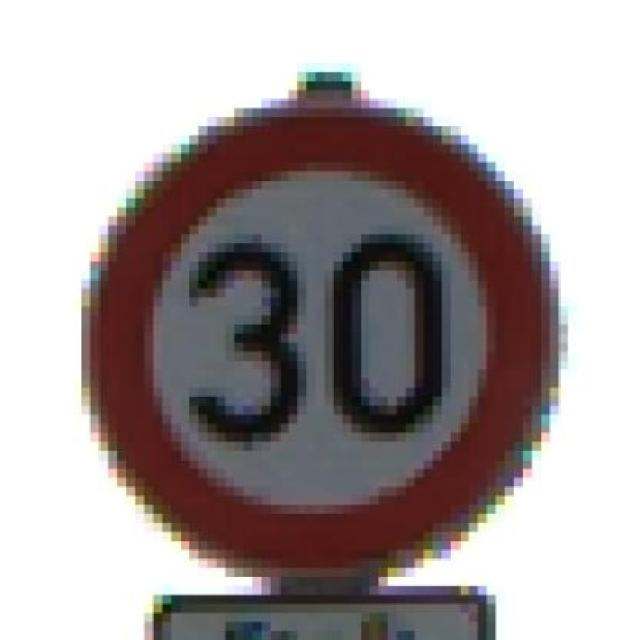Speed Limit 30 KMPh: (45, 54, 577, 577)
